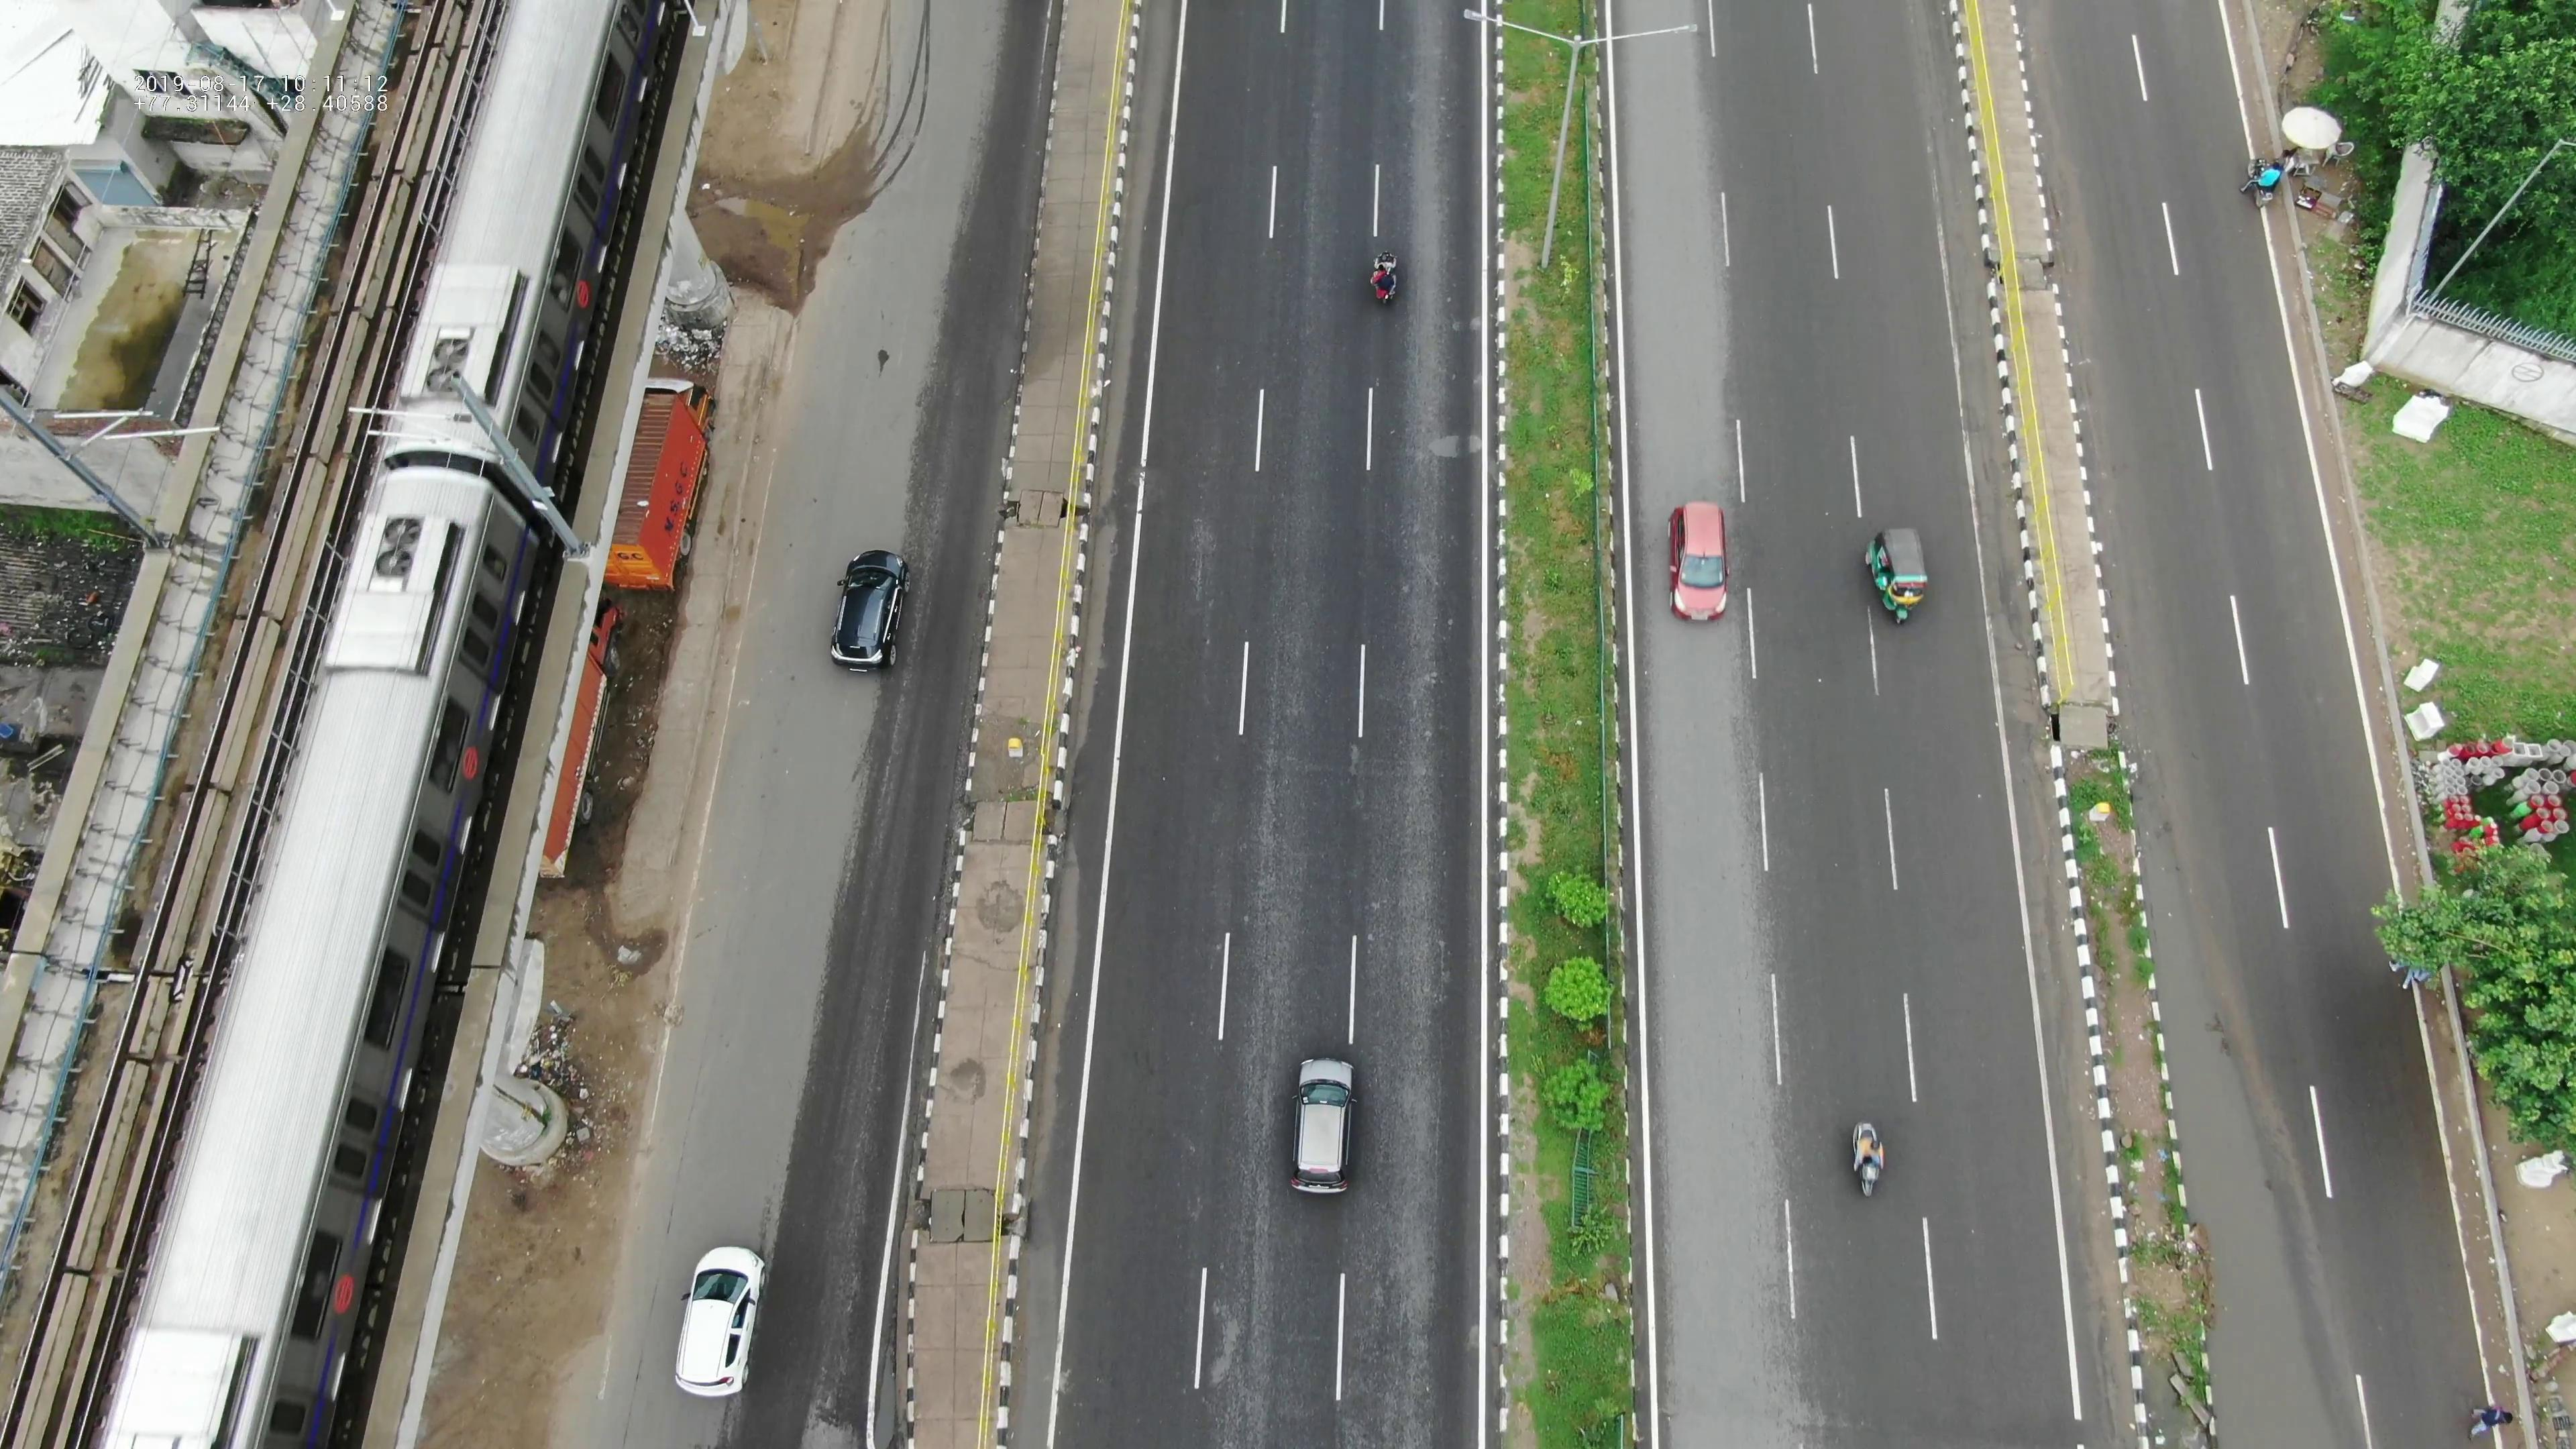Waterlogging: (2127, 805, 2298, 1378)
